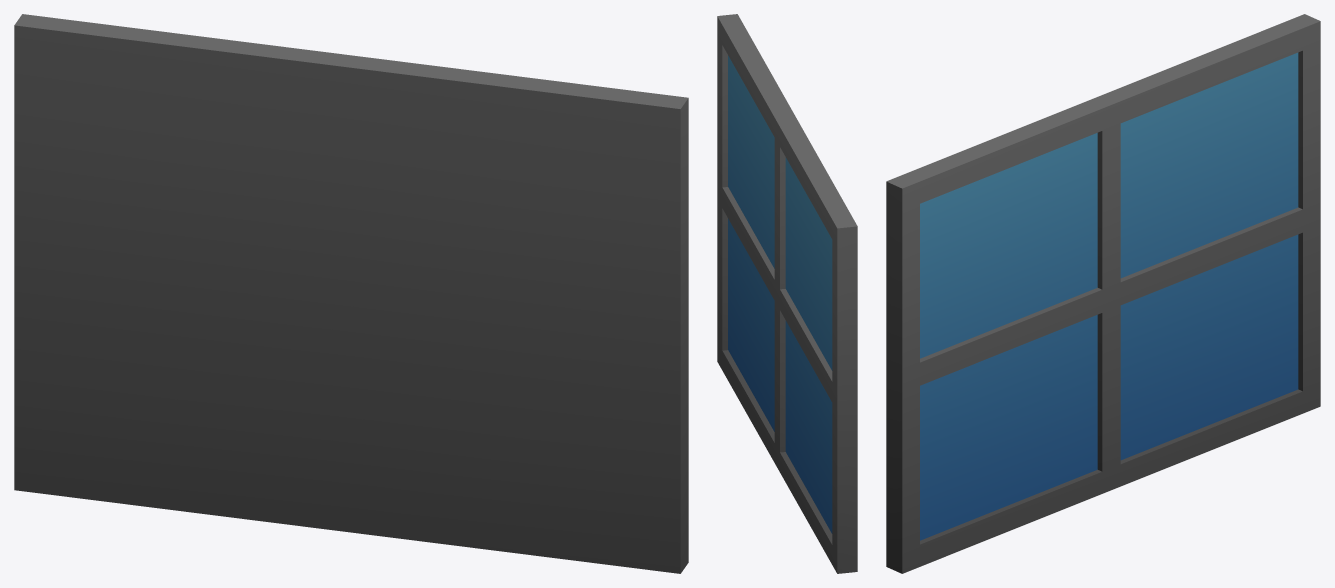
File: SM_window.fbx
3 renders of one model, left to right at view 1: azimuth 30°, elevation 25°; view 2: azimuth 150°, elevation 25°; view 3: azimuth 270°, elevation 25°, orthographic. The views are drawn at different scales.
Visible parts, largest first — view 1: Plane.001; view 2: Plane.001; view 3: Plane.001.
Part boxes in pixels (box(x1,y1,x2,y2)): Plane.001: box(14, 14, 688, 573); Plane.001: box(717, 14, 857, 573); Plane.001: box(886, 14, 1320, 573).
Size of the model in its own units: 2.54 by 2.67 by 2.61.
